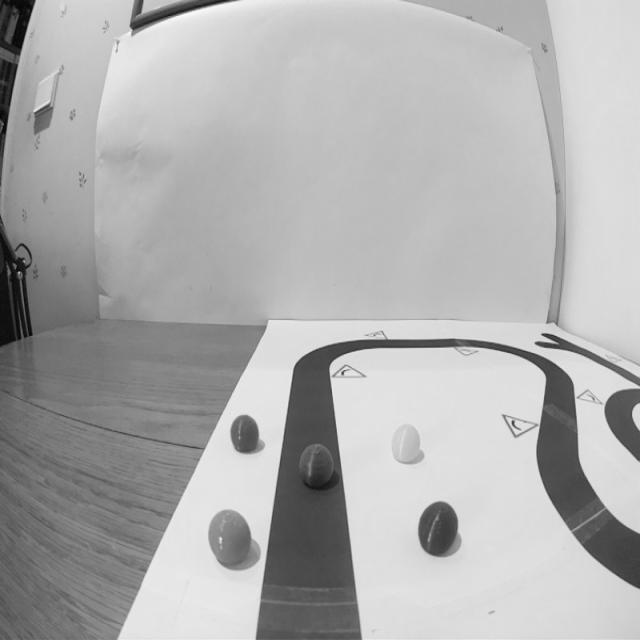ball: (204, 503, 257, 572), (413, 495, 462, 560), (296, 438, 338, 491), (387, 420, 423, 470), (228, 409, 263, 456)
lineStraight: (258, 494, 356, 583), (269, 407, 349, 492)
